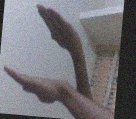hand: (3, 64, 62, 104), (36, 3, 82, 51)
